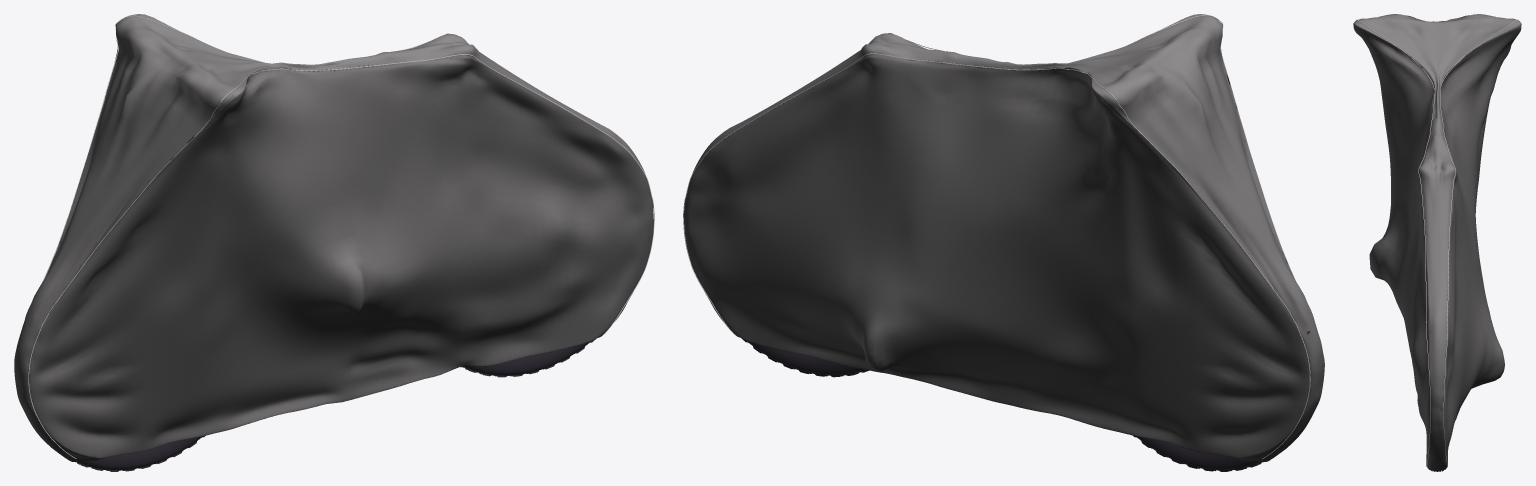
The model's file is bike.glb.
3 views of the same model, side by side, from view 1: azimuth 30°, elevation 25°; view 2: azimuth 150°, elevation 25°; view 3: azimuth 270°, elevation 25° (orthographic). The views are drawn at different scales.
Visible parts, largest first — view 1: CAPA, RODA, LINHA.001; view 2: CAPA, RODA, LINHA.001; view 3: CAPA, LINHA.001.
Boxes of the visible parts, left/top/right/bottom form: CAPA: left=14, top=14, right=653, bottom=461; RODA: left=22, top=326, right=595, bottom=471; LINHA.001: left=28, top=15, right=654, bottom=458; CAPA: left=683, top=14, right=1324, bottom=461; RODA: left=742, top=331, right=1309, bottom=471; LINHA.001: left=683, top=15, right=1310, bottom=459; CAPA: left=1353, top=14, right=1521, bottom=471; LINHA.001: left=1356, top=19, right=1518, bottom=469.
Size of the model in its own units: 6.28 by 3.83 by 1.88.
Materials: 8 (2 with a texture image).
